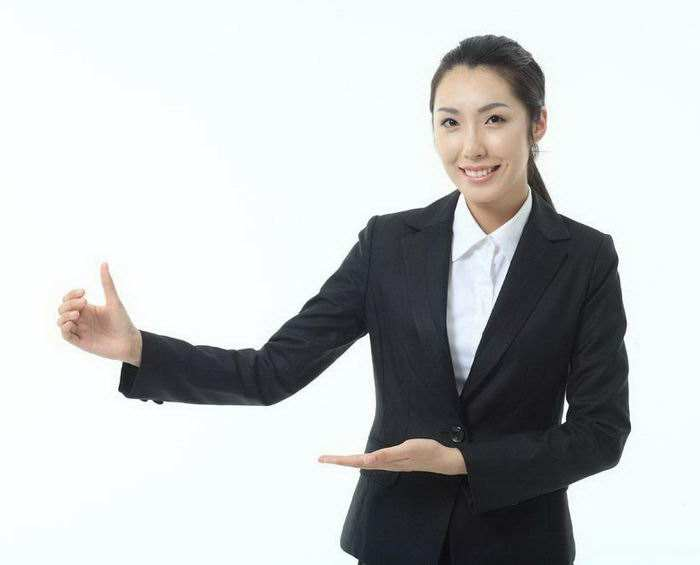no-phone: (54, 258, 138, 363), (314, 435, 448, 477)
